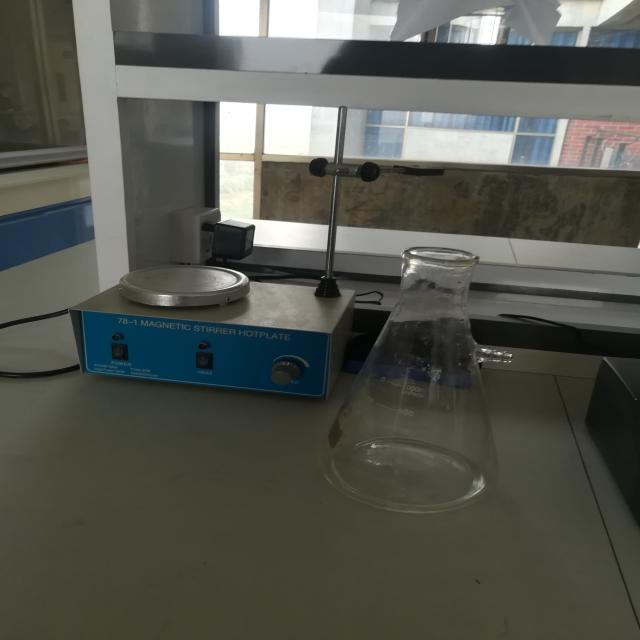Conical_Flask: (304, 162, 540, 556)
